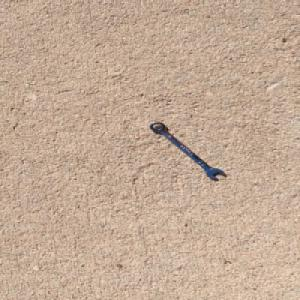Wrench: (148, 120, 229, 181)
